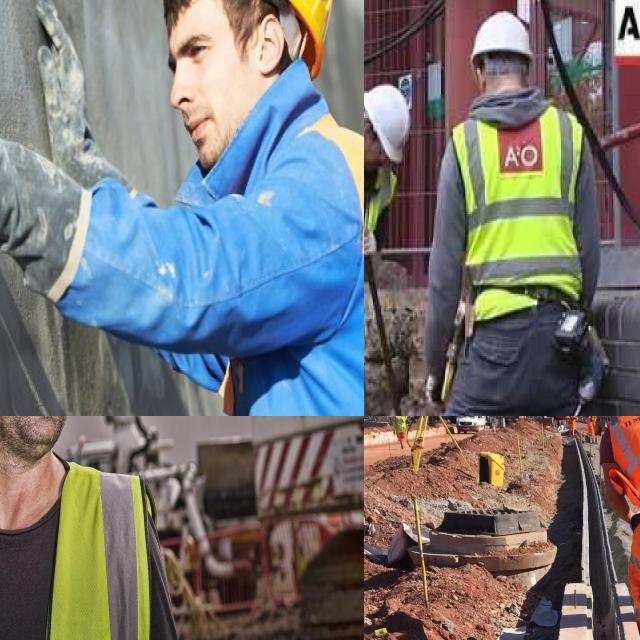No_Ear-Protection: (146, 0, 314, 177)
hand_glove: (364, 221, 381, 267)
head_helmet: (364, 84, 411, 160), (468, 12, 534, 66)
person: (423, 11, 601, 416), (0, 416, 183, 640), (364, 84, 405, 416), (600, 416, 640, 640), (393, 416, 408, 450), (586, 416, 597, 436), (568, 416, 578, 437)
vest: (453, 104, 585, 317), (0, 463, 156, 640), (609, 416, 640, 514)
